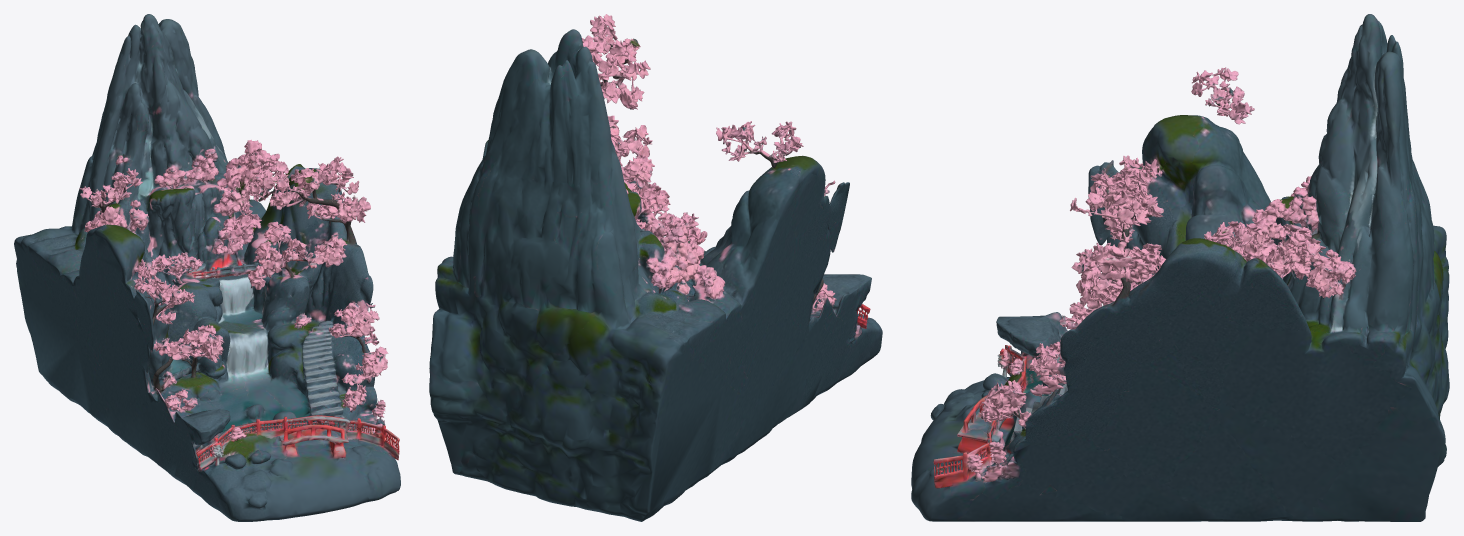
The model's file is sakura_cliff.glb.
The picture shows the model from 3 angles, left to right: view 1: azimuth 30°, elevation 25°; view 2: azimuth 150°, elevation 25°; view 3: azimuth 270°, elevation 25°; orthographic projection. The views are drawn at different scales.
Bounding box in the file's own units: 1.22 × 1.77 × 1.88.
1 material, 1 textured.
